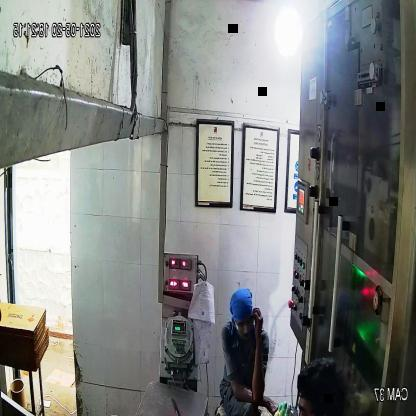goggles: (231, 314, 256, 334)
